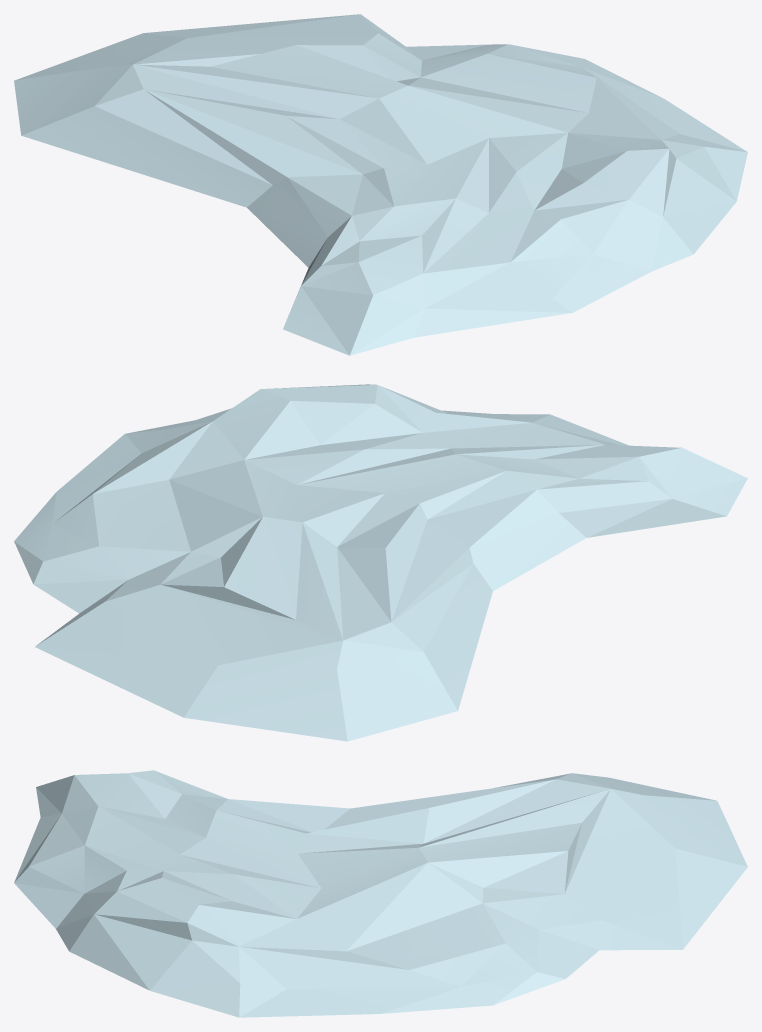
Rendered from Parche_Nieve02.glb.
The picture shows the model from 3 angles, top to bottom: view 1: azimuth 30°, elevation 25°; view 2: azimuth 150°, elevation 25°; view 3: azimuth 270°, elevation 25°; orthographic projection. The views are drawn at different scales.
Visible parts, largest first — view 1: SM_Env_GrassPatch_02_Snow; view 2: SM_Env_GrassPatch_02_Snow; view 3: SM_Env_GrassPatch_02_Snow.
Boxes of the visible parts, x1,y1,x2,y2 form: SM_Env_GrassPatch_02_Snow: (14, 14, 747, 355); SM_Env_GrassPatch_02_Snow: (14, 384, 747, 741); SM_Env_GrassPatch_02_Snow: (14, 770, 747, 1017).
Bounding box in the file's own units: 2.07 × 0.1927 × 2.66.
Materials: 1 (1 with a texture image).
